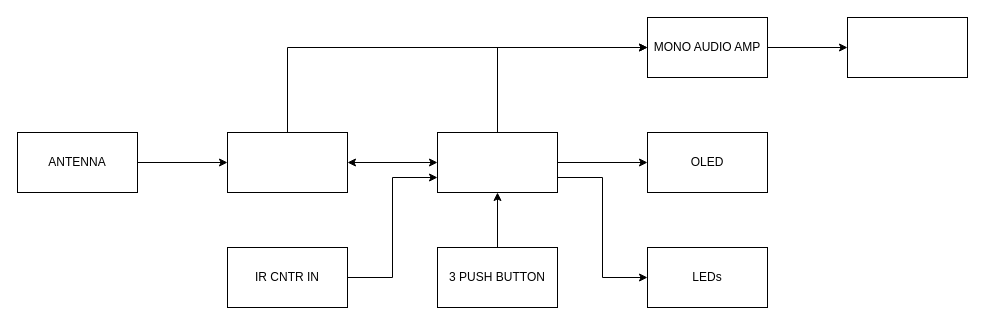
Some shapes in this 985 by 325 pixel diagram are drawn without their labels. The shapes that lost their labels are listed below. From the top down, each one's centre as x and y in pixels, then its label:
At (907,47): "SPK 8OHM".
At (287,162): "AM/FM DEMOD".
At (497,162): "PIC MCU".
